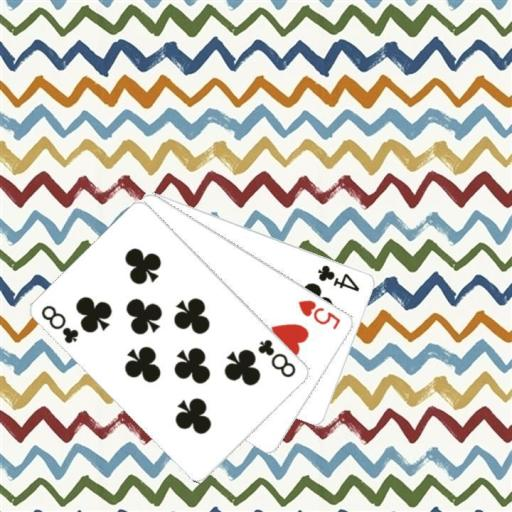4C: (315, 262, 361, 293)
5H: (295, 297, 343, 332)
8C: (38, 302, 81, 346), (255, 336, 298, 379)
